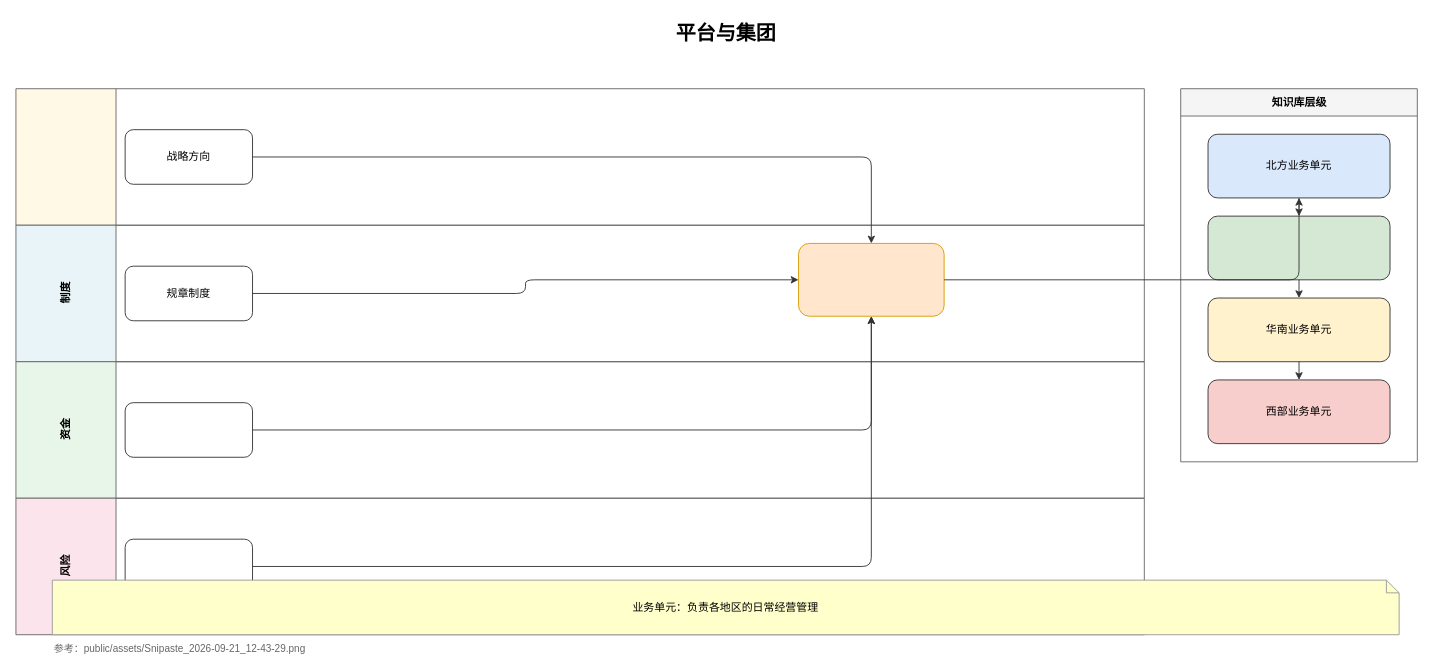
The diagram is 1433 pixels wide and 672 high, and some of its shapes have lost their labels. The shapes that lost their labels are listed below. From the top down, each one's box as (x1, y1, x2, y2) in pixels, then its label:
(15, 88, 1144, 225): 战略
(1207, 215, 1390, 280): 华东业务单元
(798, 243, 944, 316): 总部只抓四件事：战略方向 · 规章制度 · 资金流动 · 风险管控
(124, 402, 253, 457): 资金流动
(124, 538, 253, 594): 风险管控
